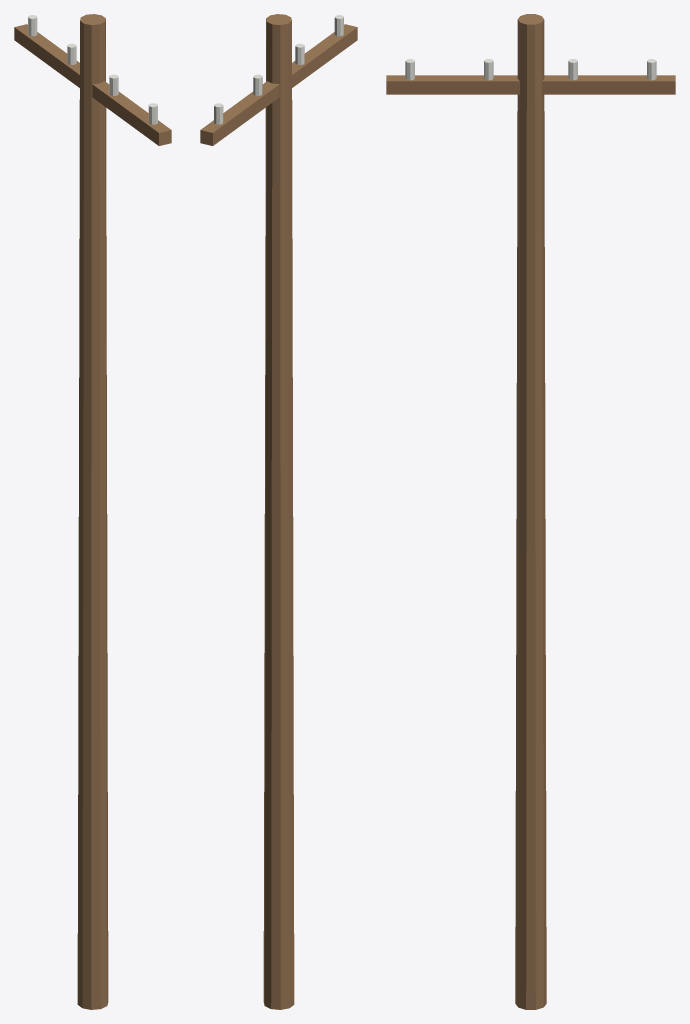
File: SM_PowerPole.fbx
3 renders of one model, left to right at view 1: azimuth 30°, elevation 25°; view 2: azimuth 150°, elevation 25°; view 3: azimuth 270°, elevation 25°, orthographic.
Visible parts, largest first — view 1: SM_PowerPole; view 2: SM_PowerPole; view 3: SM_PowerPole.
Boxes of the visible parts, x1=… form: SM_PowerPole: x1=14, y1=14, x2=171, y2=1009; SM_PowerPole: x1=200, y1=14, x2=357, y2=1009; SM_PowerPole: x1=386, y1=14, x2=675, y2=1009.
Size of the model in its own units: 24.73 by 900 by 240.
